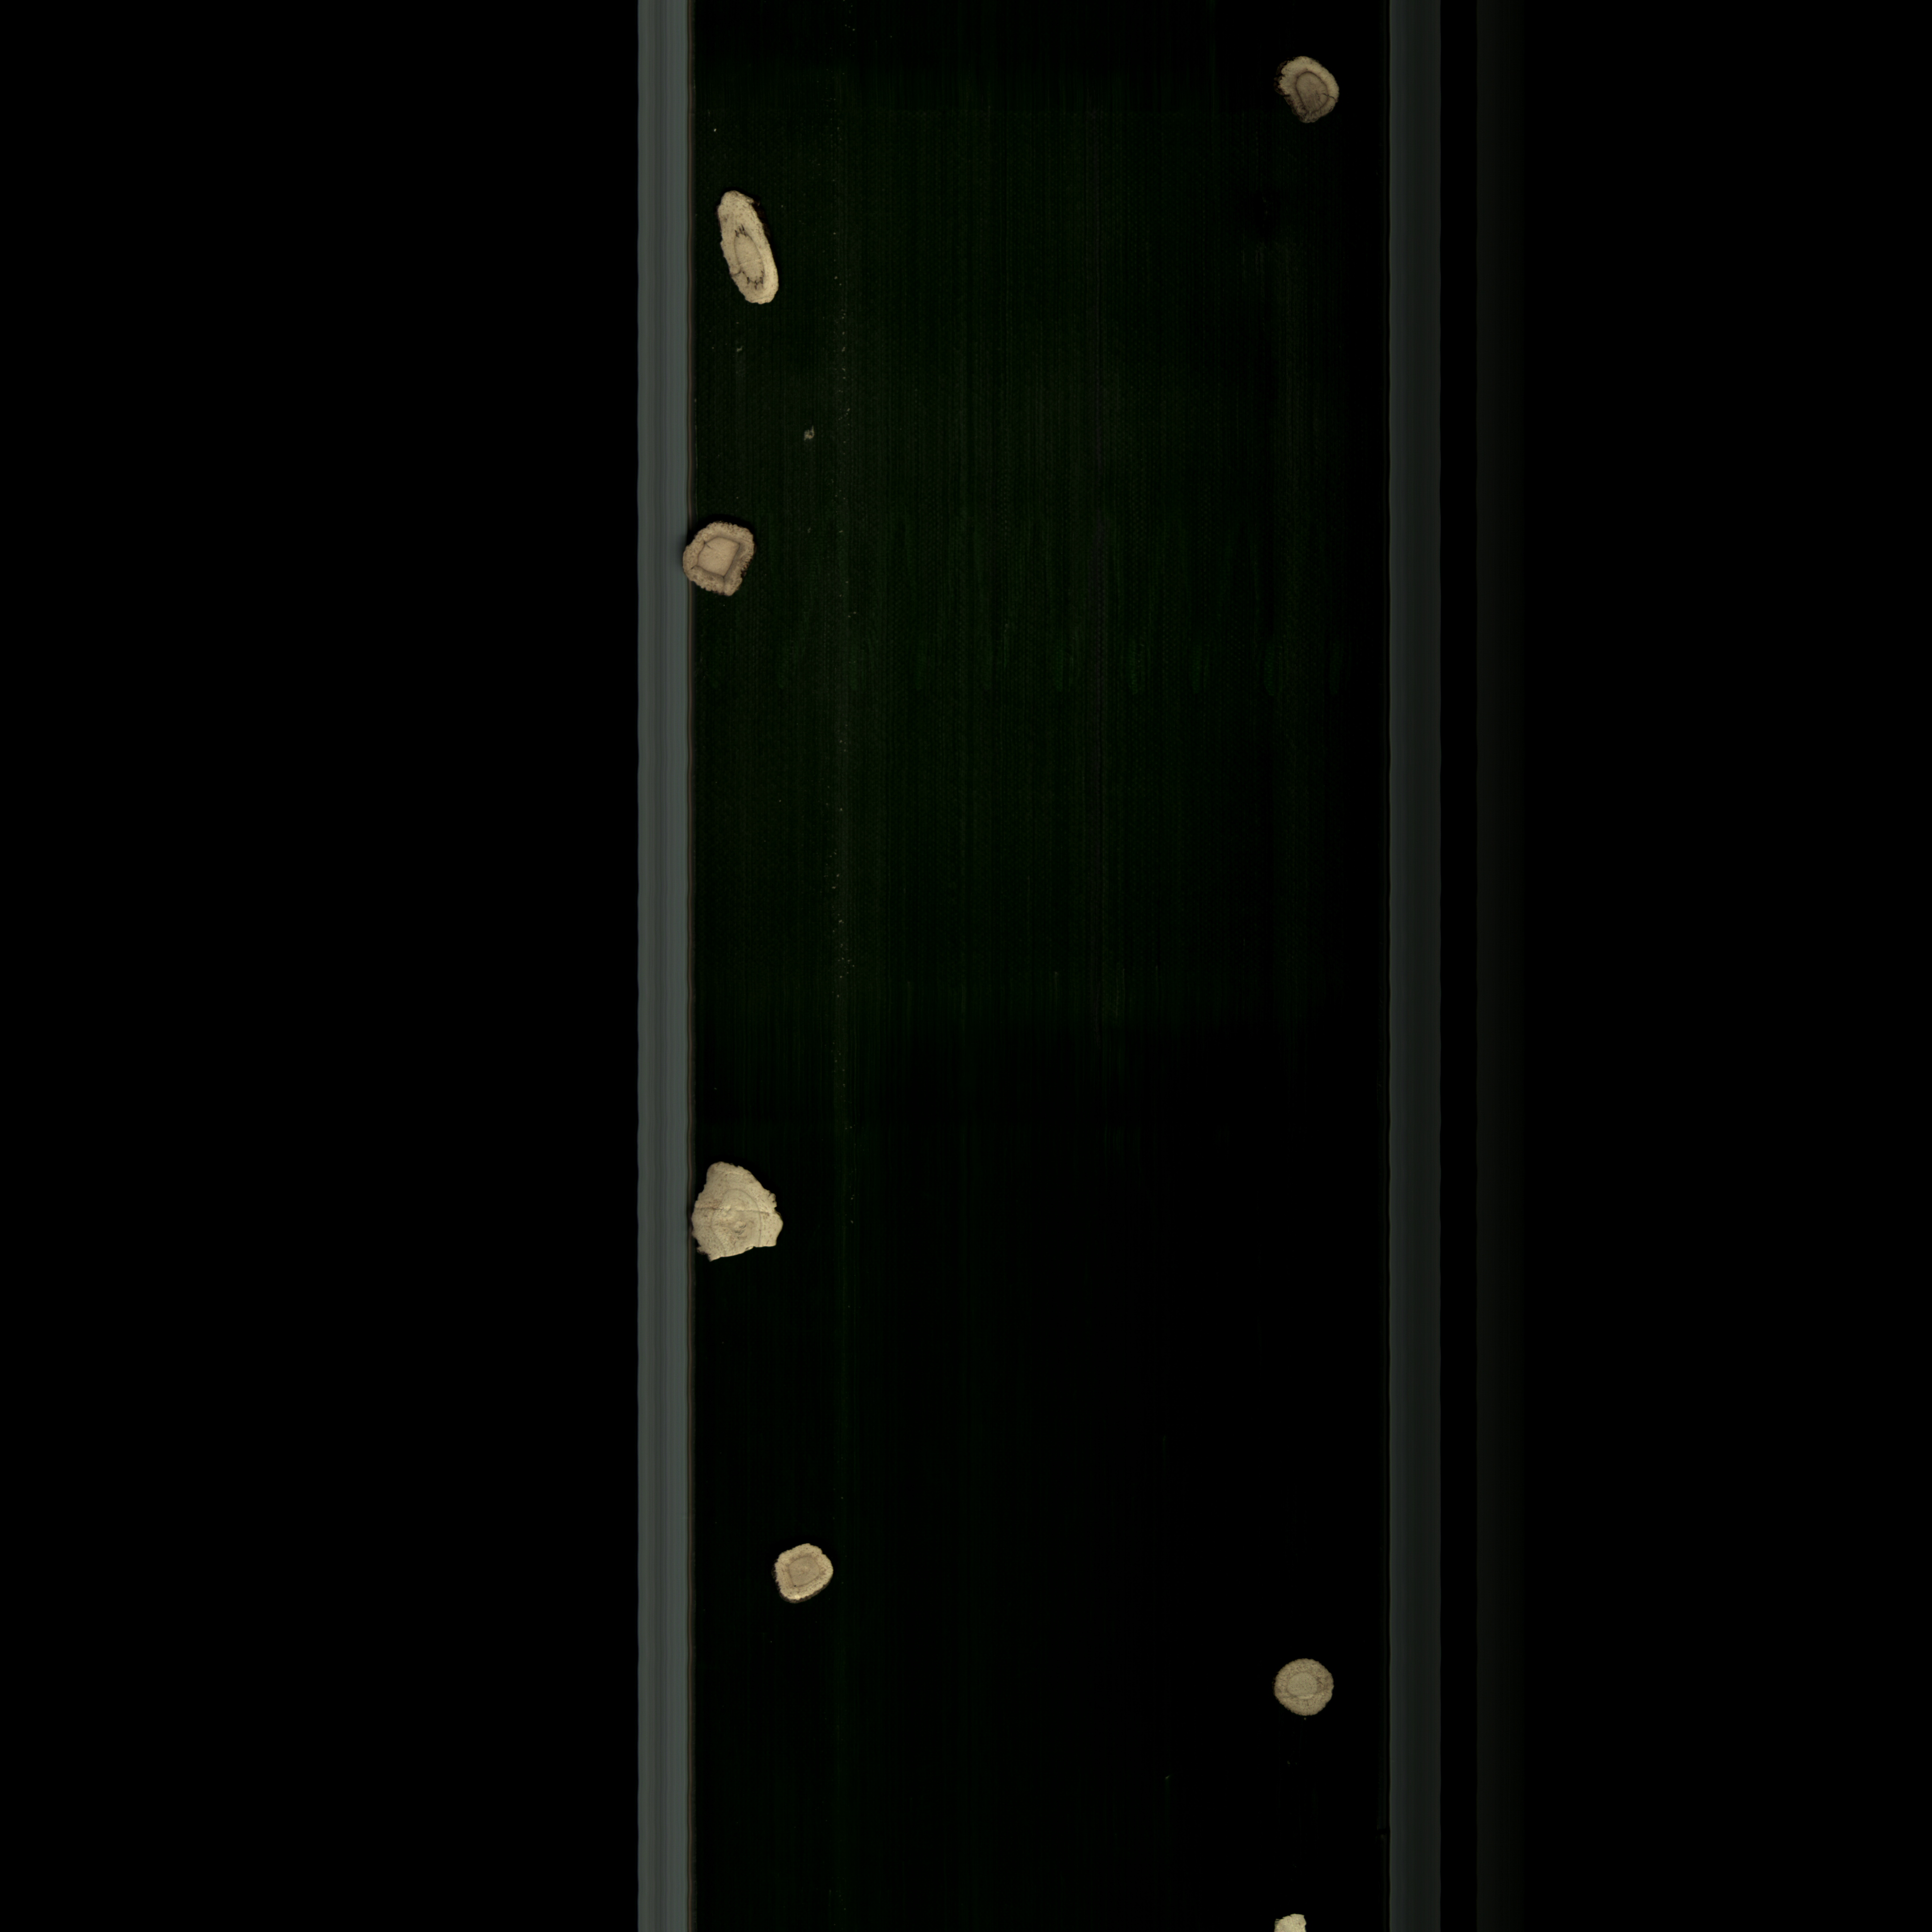debris: (686, 1148, 784, 1270)
moldy: (706, 180, 782, 317), (674, 517, 764, 610), (757, 1539, 842, 1615), (1269, 48, 1346, 127), (1265, 1651, 1341, 1727)
